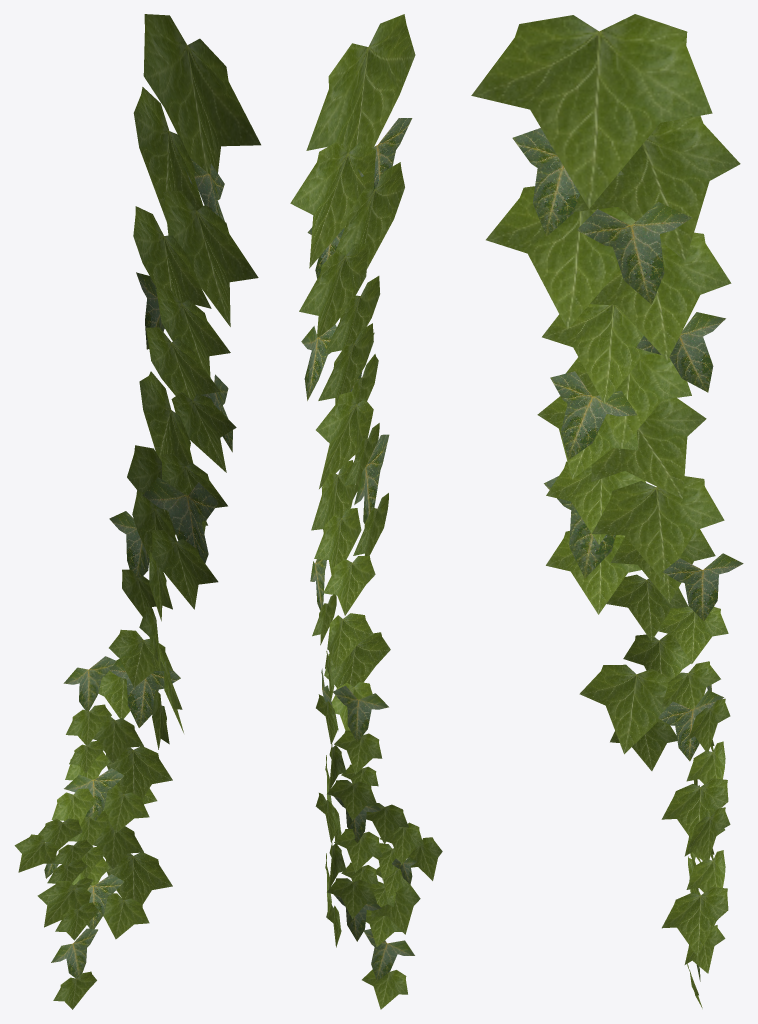
Rendered from Vines_C.fbx.
3 renders of one model, left to right at view 1: azimuth 30°, elevation 25°; view 2: azimuth 150°, elevation 25°; view 3: azimuth 270°, elevation 25°, orthographic. The views are drawn at different scales.
Parts seen in each view (by area): view 1: VInes_C; view 2: VInes_C; view 3: VInes_C.
Part boxes in pixels (x1,y1,x2,y2): VInes_C: (14,14,260,1009); VInes_C: (290,14,442,1009); VInes_C: (471,14,743,1008).
Bounding box in the file's own units: 38.73 × 237 × 56.93.
